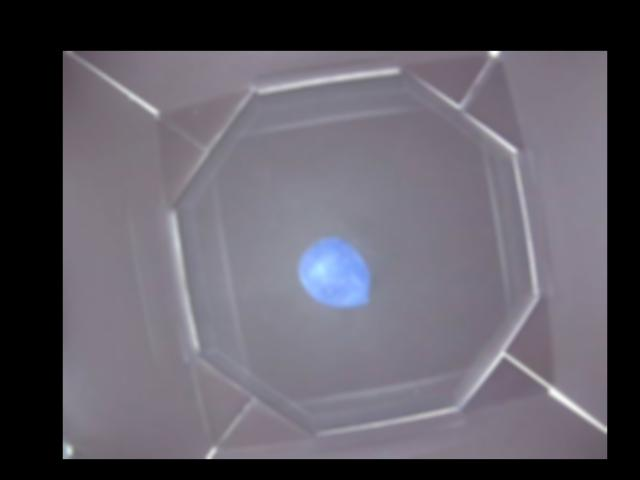Potato: (298, 232, 370, 306)
